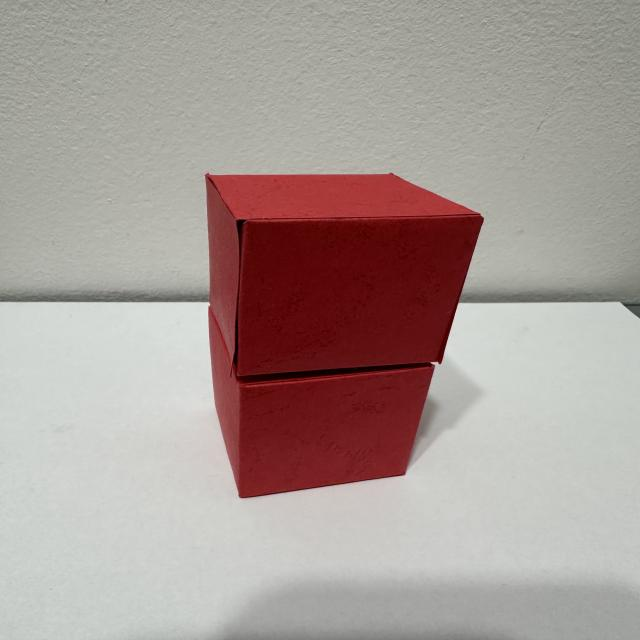red_cube: (199, 160, 482, 513)
